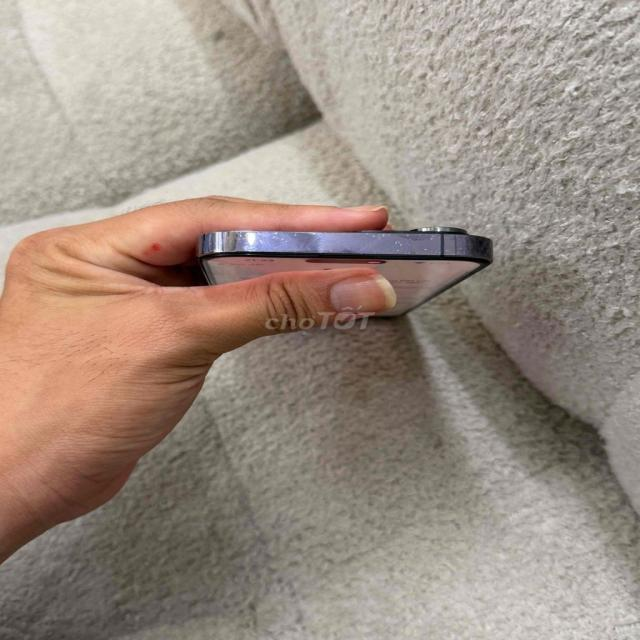gen_14: (202, 218, 498, 337)
scratch: (218, 224, 334, 260), (369, 244, 505, 264), (371, 226, 457, 248)
